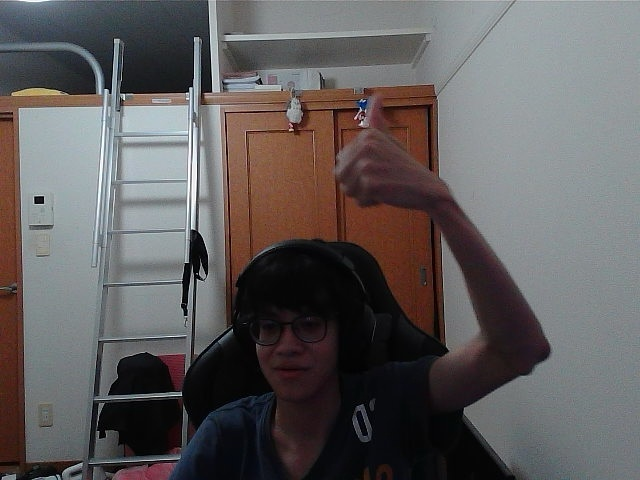thumb_up: (343, 128, 423, 199)
